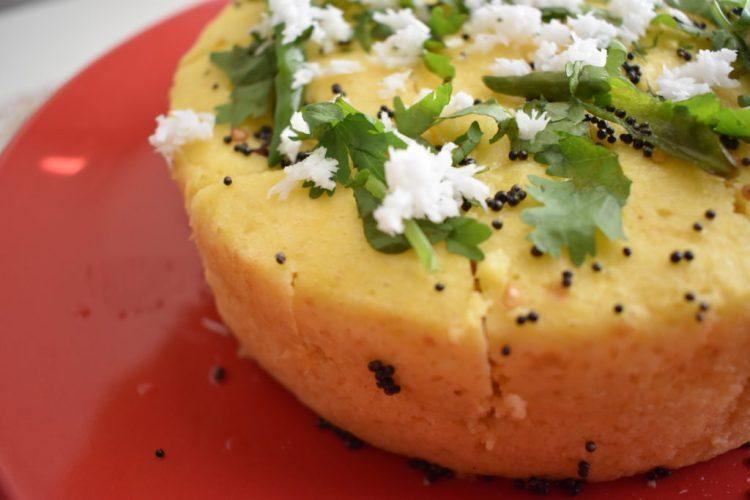dhokla: (170, 4, 746, 483)
